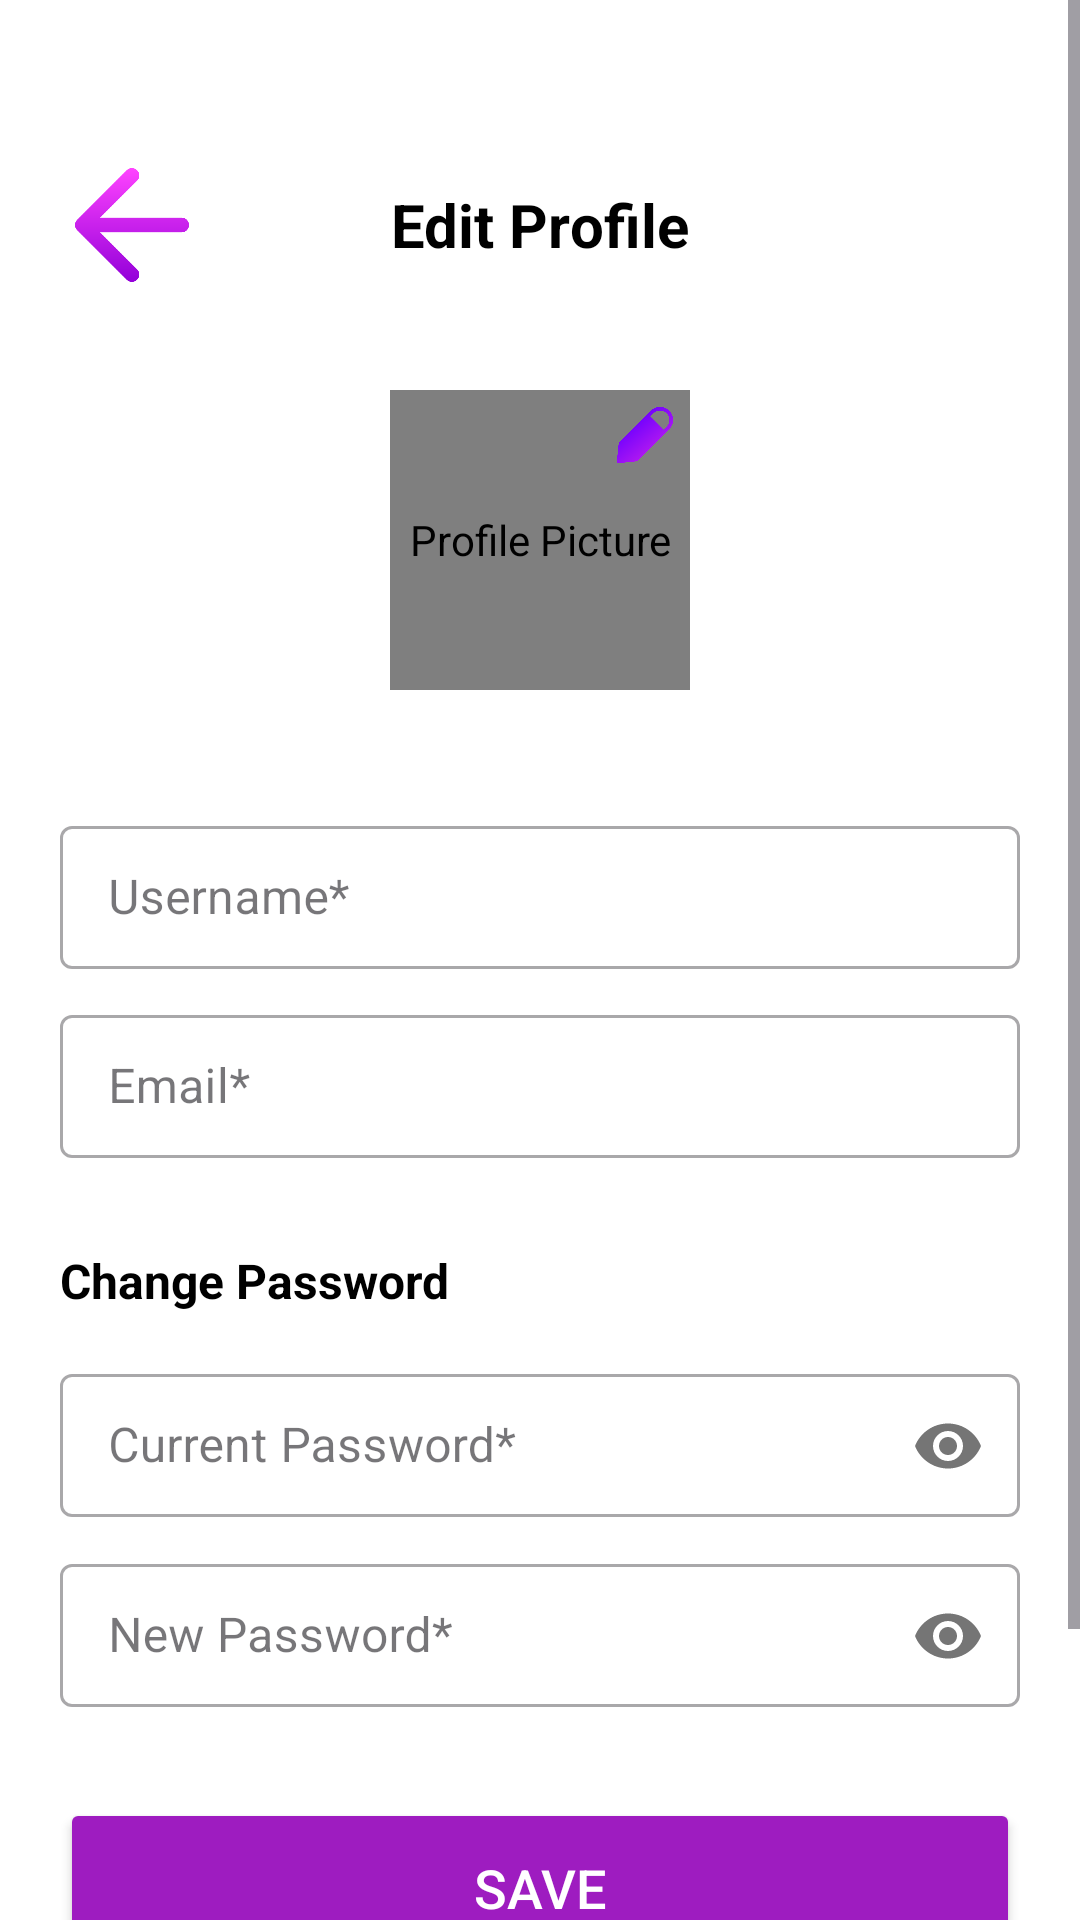

Screen size 1080 × 1920. Icon name, then its box in pixels as bbox=(x1, y1, x2, y2):
Back: bbox=(75, 168, 189, 282)
